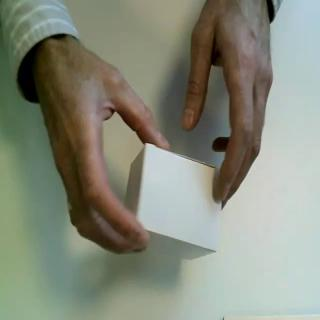apodorm5mg: (123, 141, 223, 263)
